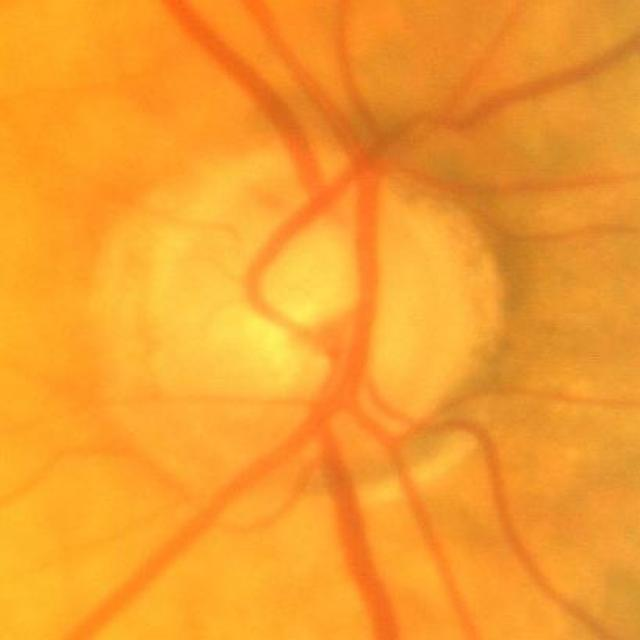OC: (219, 225, 411, 405)
OD: (98, 140, 496, 477)
